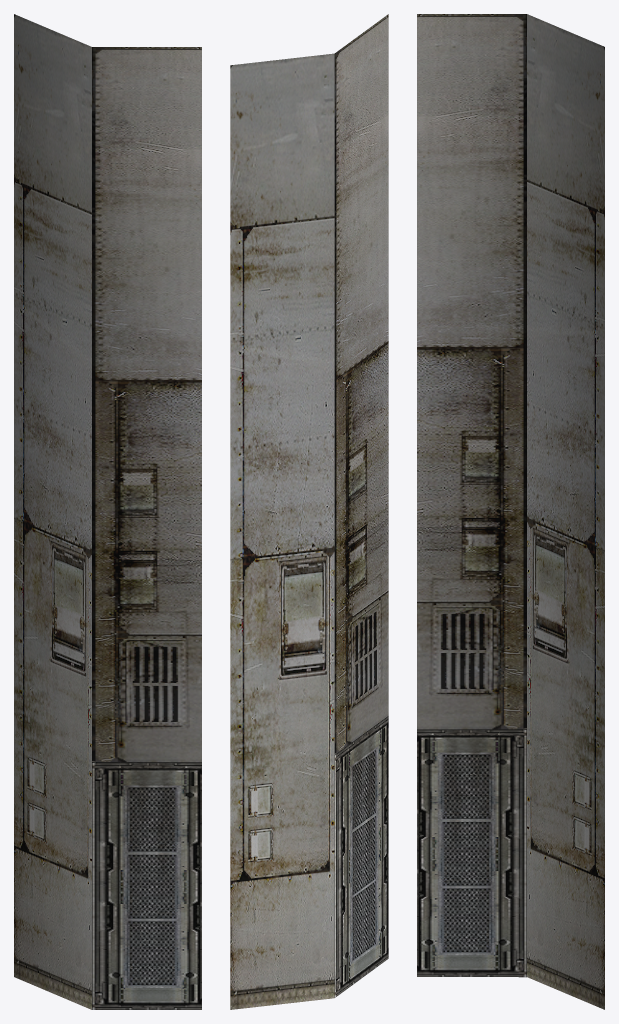
File: Wall_J_Giant10mts_08.fbx
3 renders of one model, left to right at view 1: azimuth 90°, elevation 25°; view 2: azimuth 150°, elevation 25°; view 3: azimuth 270°, elevation 25°, orthographic.
Visible parts, largest first — view 1: Wall_J_Giant10mts_08; view 2: Wall_J_Giant10mts_08; view 3: Wall_J_Giant10mts_08.
Boxes of the visible parts, left/top/right/bottom form: Wall_J_Giant10mts_08: left=14, top=14, right=201, bottom=1009; Wall_J_Giant10mts_08: left=230, top=14, right=388, bottom=1009; Wall_J_Giant10mts_08: left=417, top=14, right=604, bottom=1009.
Size of the model in its own units: 146 by 2000 by 354.
Materials: 1 (1 with a texture image).
